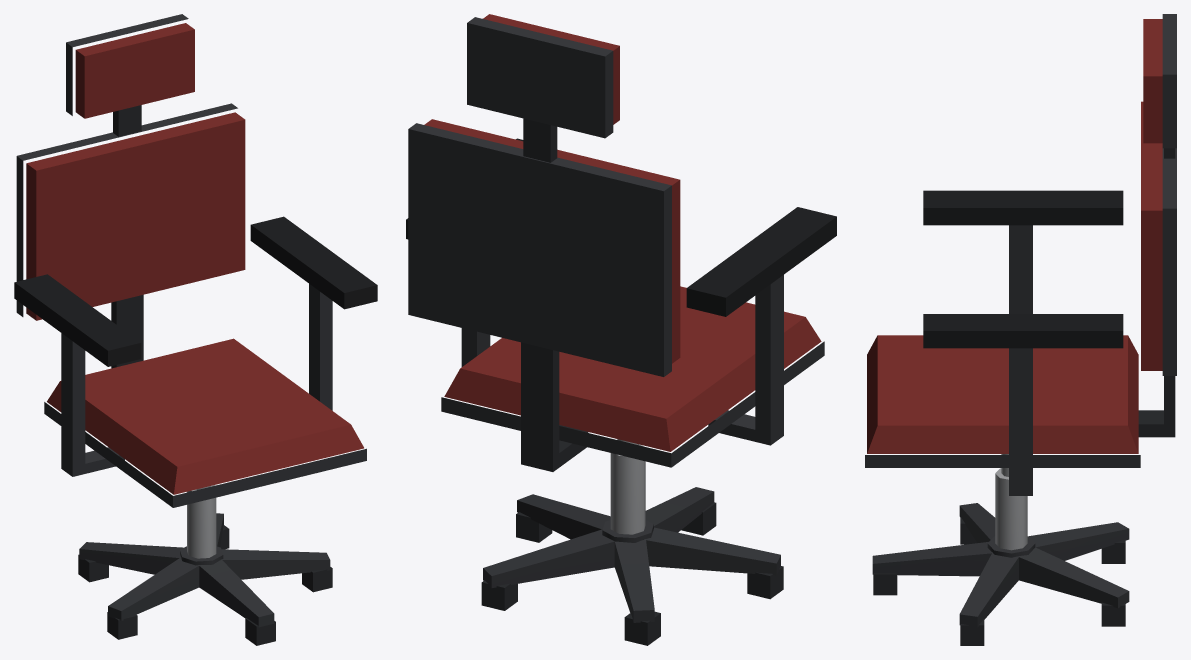
File: seat.office.red.glb
3 views of the same model, side by side, from view 1: azimuth 30°, elevation 25°; view 2: azimuth 150°, elevation 25°; view 3: azimuth 270°, elevation 25° (orthographic). The views are drawn at different scales.
Visible parts, largest first — view 1: seat_office_red; view 2: seat_office_red; view 3: seat_office_red.
Boxes of the visible parts, x1,y1,x2,y2 form: seat_office_red: (14,14,377,645); seat_office_red: (406,14,836,645); seat_office_red: (865,14,1176,645).
Size of what is drawn, in the model's own units: 0.695 by 1.26 by 0.652.
